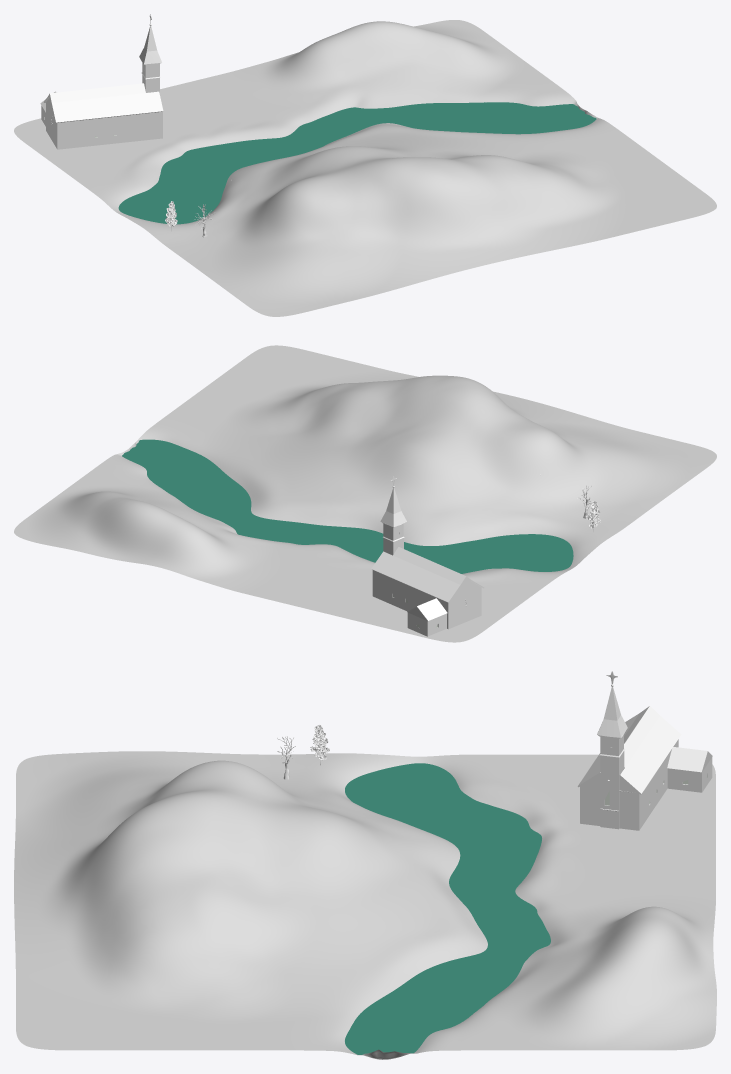
Rendered from DarkTemple.gltf.
3 views of the same model, one above another, from view 1: azimuth 30°, elevation 25°; view 2: azimuth 150°, elevation 25°; view 3: azimuth 270°, elevation 25° (orthographic). The views are drawn at different scales.
Visible parts, largest first — view 1: Plane.001, voda, Sphere, Sphere.002; view 2: Plane.001, voda, Sphere, Sphere.002; view 3: Plane.001, voda, Sphere, Sphere.002.
Part boxes in pixels (x1,y1,x2,y2): Plane.001: (14, 20, 716, 316); voda: (118, 102, 596, 224); Sphere: (41, 24, 162, 149); Sphere.002: (40, 26, 163, 122); Plane.001: (14, 345, 716, 642); voda: (122, 439, 573, 573); Sphere: (372, 486, 481, 636); Sphere.002: (371, 488, 484, 621); Plane.001: (14, 751, 716, 1059); voda: (345, 763, 550, 1054); Sphere: (580, 684, 712, 830); Sphere.002: (577, 687, 712, 794).
Size of the model in its own units: 402 by 115 by 402.
